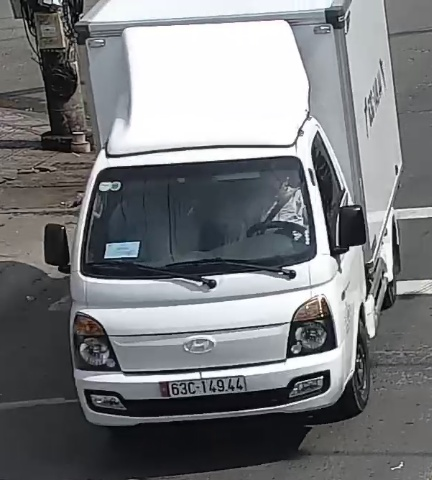vehicle plate: (154, 373, 250, 397)
